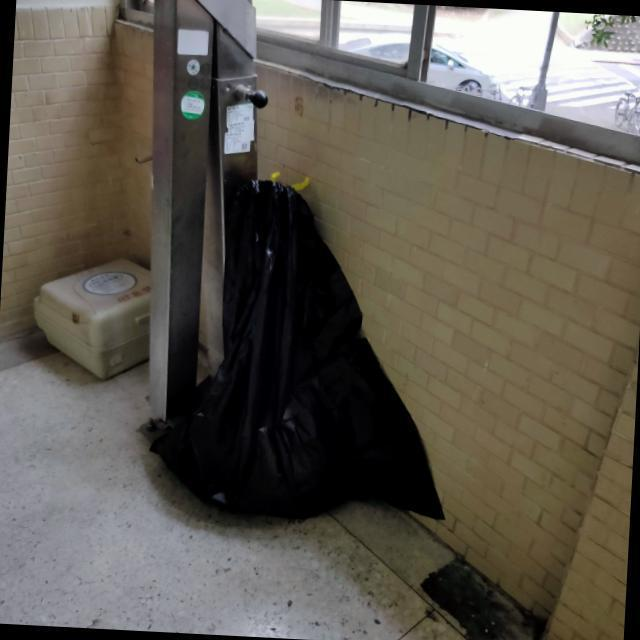garbage: (130, 162, 474, 546)
